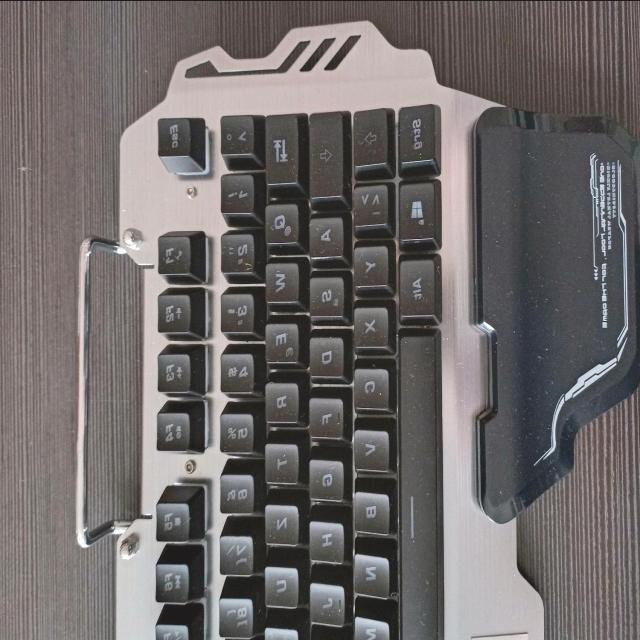1: (217, 170, 254, 214)
2: (217, 228, 255, 274)
3: (217, 287, 254, 333)
4: (217, 349, 255, 394)
5: (217, 408, 254, 453)
6: (218, 470, 254, 514)
7: (216, 531, 253, 575)
8: (216, 591, 254, 637)
a: (307, 212, 343, 258)
alt-left: (395, 254, 435, 318)
b: (350, 488, 389, 534)
c: (350, 362, 389, 410)
caret: (217, 111, 255, 155)
d: (306, 331, 344, 377)
e: (263, 318, 299, 362)
f: (306, 393, 344, 438)
g: (306, 455, 343, 499)
h: (306, 516, 344, 561)
j: (306, 580, 344, 624)
keyboard: (134, 56, 460, 640)
less: (349, 180, 388, 226)
m: (351, 614, 389, 640)
n: (350, 548, 388, 596)
q: (262, 198, 299, 243)
r: (262, 379, 298, 423)
s: (306, 272, 344, 318)
shift-left: (351, 103, 389, 167)
shift-lock: (306, 108, 344, 199)
space: (395, 328, 437, 640)
strg-left: (395, 100, 435, 163)
t: (261, 439, 297, 483)
tab: (263, 109, 299, 183)
u: (262, 563, 298, 608)
v: (350, 425, 389, 471)
w: (262, 258, 298, 302)
x: (351, 303, 388, 349)
y: (350, 240, 388, 288)
z: (262, 501, 298, 545)
